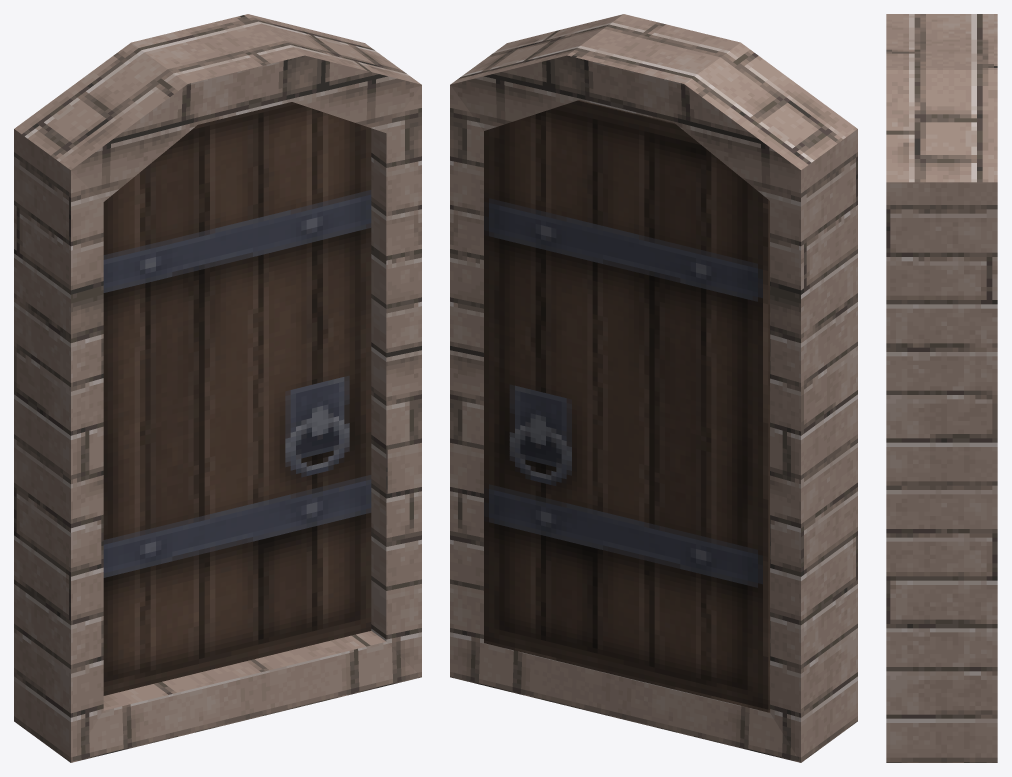
The model's file is door_stone_rounded.glb.
The picture shows the model from 3 angles, left to right: view 1: azimuth 30°, elevation 25°; view 2: azimuth 150°, elevation 25°; view 3: azimuth 270°, elevation 25°; orthographic projection. The views are drawn at different scales.
Visible parts, largest first — view 1: door_stone_rounded; view 2: door_stone_rounded; view 3: door_stone_rounded.
Part boxes in pixels (bbox=[...]): door_stone_rounded: bbox=[14, 14, 421, 762]; door_stone_rounded: bbox=[450, 14, 857, 762]; door_stone_rounded: bbox=[886, 14, 997, 762].
Bounding box in the file's own units: 1.3 × 2.31 × 0.3645.
1 material, 1 textured.
